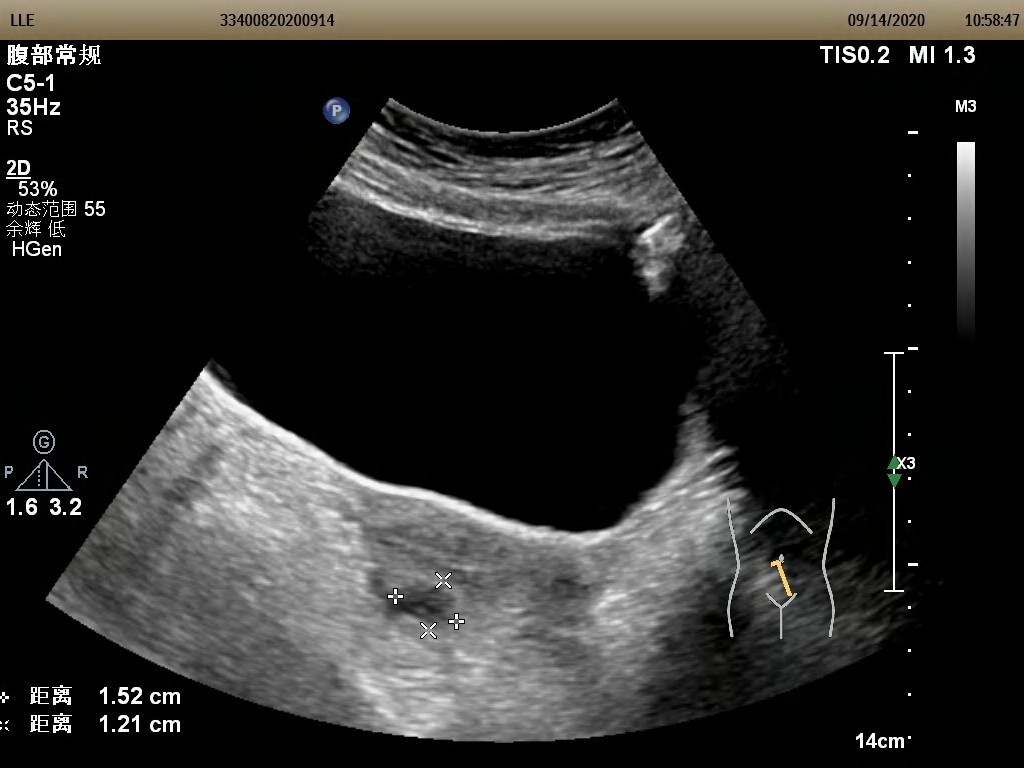肌瘤: (395, 584, 454, 617)
